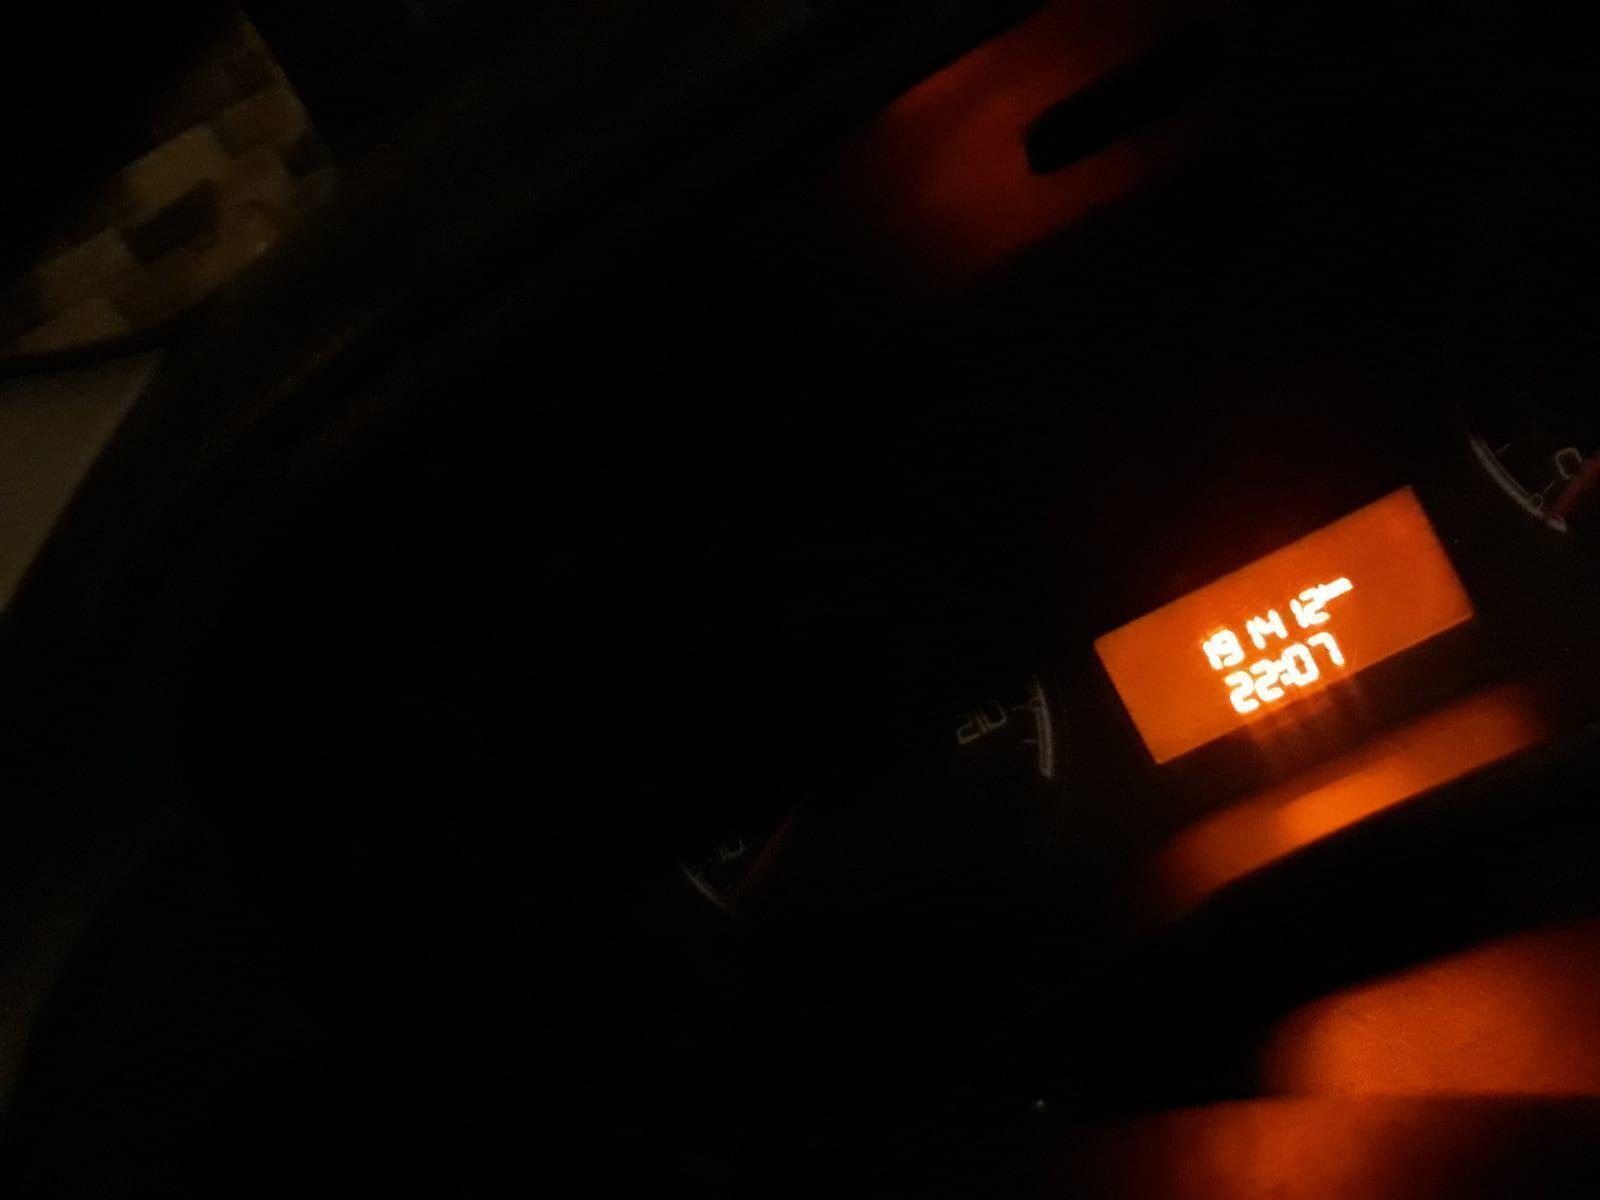0: (1280, 642, 1318, 684)
1: (1201, 640, 1223, 673), (1243, 618, 1266, 650), (1289, 599, 1309, 628)
2: (1249, 657, 1283, 702), (1225, 671, 1259, 713), (1298, 586, 1327, 625)
4: (1254, 608, 1288, 639)
7: (1305, 630, 1346, 666)
9: (1209, 629, 1245, 666)
X: (1274, 658, 1291, 686), (1328, 577, 1353, 596), (1318, 582, 1333, 601)
odometer: (1083, 476, 1483, 769)
